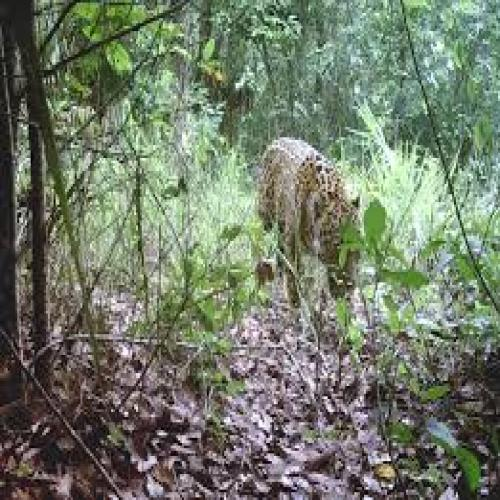jaguar_not-endangered: (258, 140, 355, 302)
